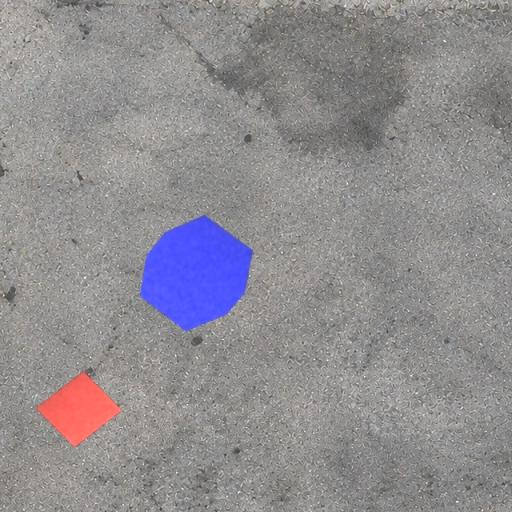RED_SQUARE: (36, 370, 122, 448)
